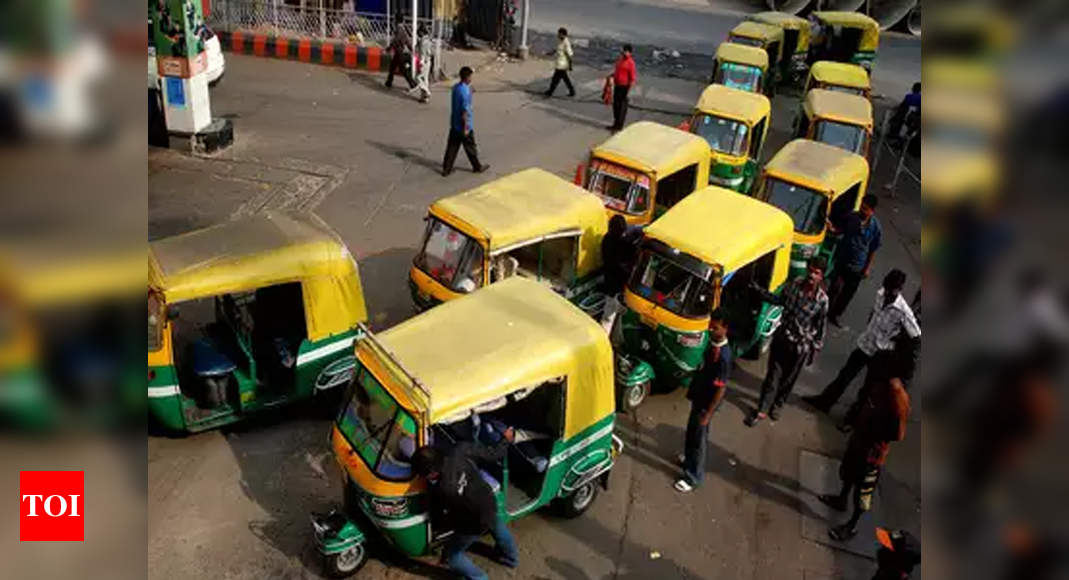rickshaw: (330, 287, 623, 575), (147, 222, 361, 426), (625, 184, 800, 419), (407, 168, 616, 314), (760, 132, 864, 261), (588, 112, 712, 214), (693, 83, 776, 184), (802, 85, 874, 157), (816, 6, 887, 67), (706, 42, 775, 103)
